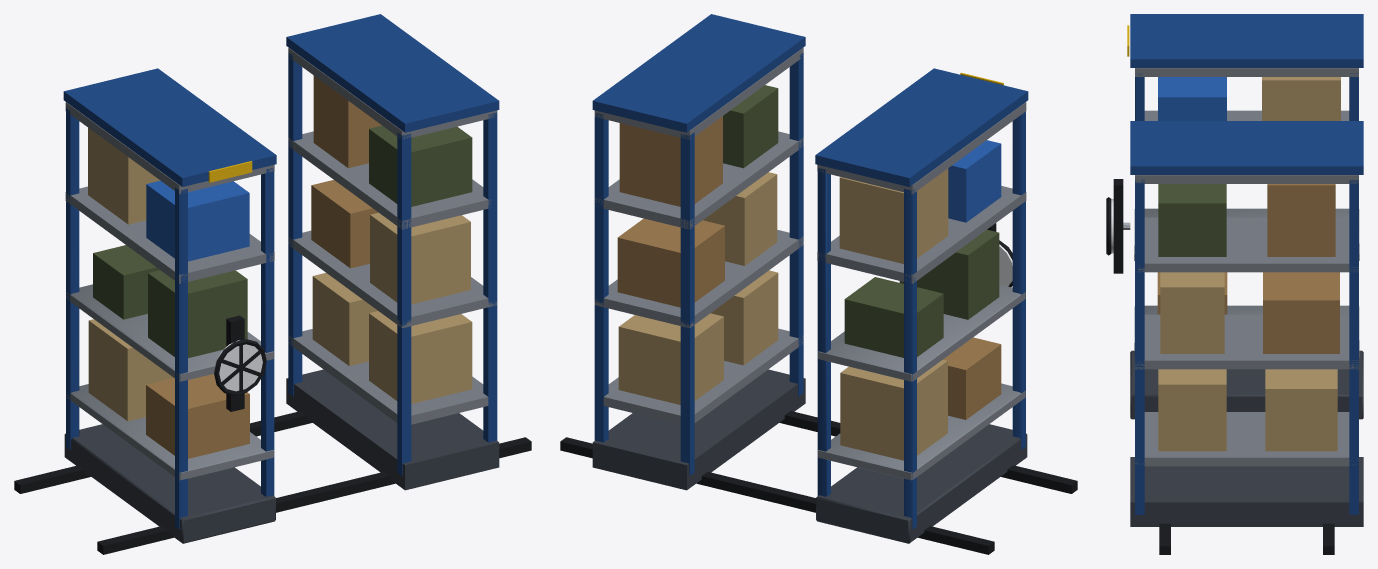
File: shelving_mobile_carriages.glb
The picture shows the model from 3 angles, left to right: view 1: azimuth 30°, elevation 25°; view 2: azimuth 150°, elevation 25°; view 3: azimuth 270°, elevation 25°; orthographic projection.
Visible parts, largest first — view 1: shelving_mobile_carriages; view 2: shelving_mobile_carriages; view 3: shelving_mobile_carriages.
Boxes of the visible parts, bbox=[...] form: shelving_mobile_carriages: bbox=[14, 14, 531, 554]; shelving_mobile_carriages: bbox=[560, 14, 1077, 554]; shelving_mobile_carriages: bbox=[1106, 14, 1363, 554].
Size of the model in its own units: 2.5 by 2.08 by 1.32.
